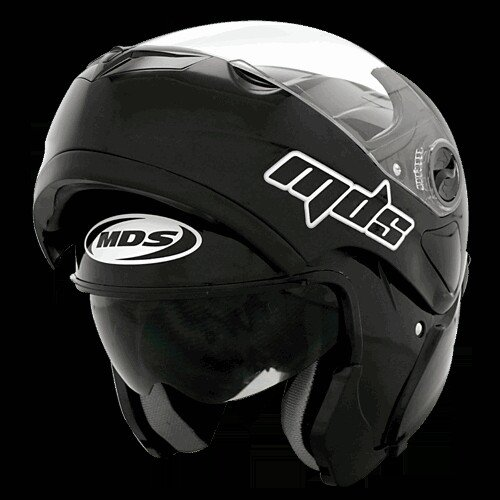with_helmet: (26, 17, 476, 491)
